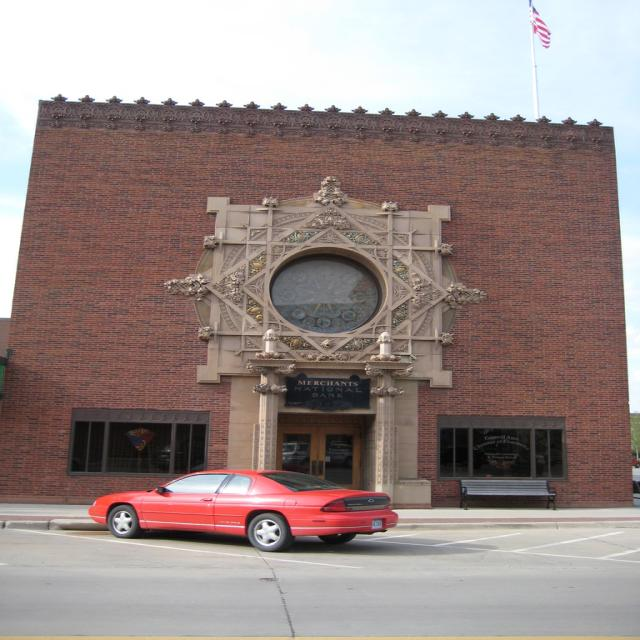car: (85, 465, 397, 555)
